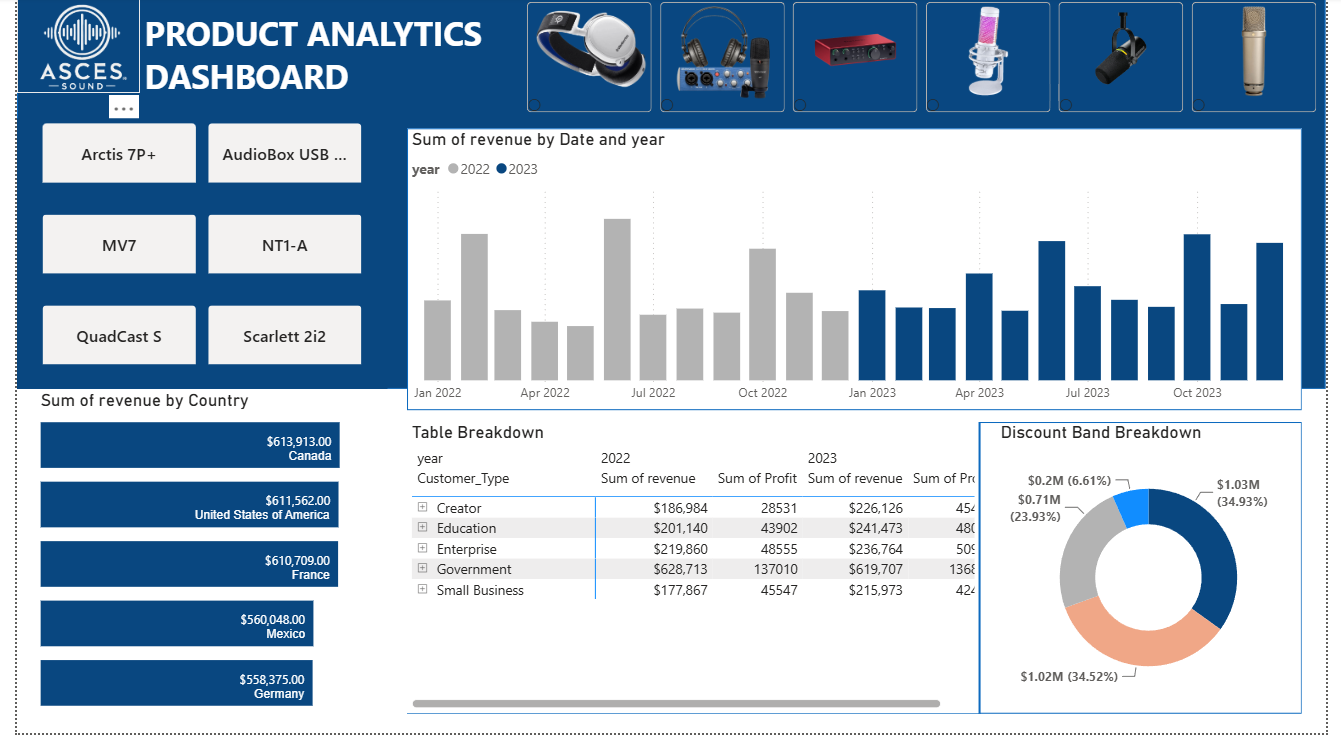

Layout of this report page (visuals, bound fields, positions):
{"tool":"powerbi","page":{"name":"Page 1","canvas":[1280,720],"ordinal":0},"visuals":[{"type":"shape","box":[0,0,1280,383.4],"z":0},{"type":"shape","box":[381.5,129,875.5,275.8],"z":1000},{"type":"shape","box":[381.5,415.8,875.5,285.4],"z":2000},{"type":"image","box":[0,0,119.4,94.7],"z":3000},{"type":"advancedSlicerVisual","fields":{"Values":["Query.Image_url"]},"box":[494,0,786.3,118],"z":4000},{"type":"cardVisual","fields":{"Rows":["Query.Product"]},"box":[0,118.3,362,265.1],"z":5000},{"type":"clusteredBarChart","fields":{"Category":["Query.Country"],"Y":["Sum(Query.revenue)"]},"box":[18.5,383.4,343.5,316.4],"z":6000},{"type":"columnChart","fields":{"Y":["Sum(Query.revenue)"],"Category":["Query.Date"],"Series":["Query.year"]},"box":[382,128.3,875.2,276.5],"z":7000},{"type":"donutChart","title":"Discount Band Breakdown","fields":{"Category":["Query.Discount_Band"],"Y":["Sum(Query.revenue)"]},"box":[957.8,415.8,299.1,285.4],"z":8000},{"type":"pivotTable","title":"Table Breakdown","fields":{"Rows":["Query.Customer_Type","Query.Product"],"Columns":["Query.year"],"Values":["Sum(Query.revenue)","Sum(Query.Profit)"]},"box":[382,416.2,560.2,285.1],"z":9000},{"type":"shape","box":[935.9,415.8,12.3,285.4],"z":10000},{"type":"textbox","box":[119.4,8.2,425.4,109.8],"z":11000}]}

Visuals, with their boxes in screenshot pixels (x1, y1, x2, y2), scaled from the page's 1280x720 canvas onto the 1341x738 screenshot:
shape: (0, 0, 1340, 393)
shape: (400, 132, 1317, 415)
shape: (400, 426, 1317, 719)
image: (0, 0, 125, 97)
advancedSlicerVisual - Query.Image_url: (518, 0, 1340, 121)
cardVisual - Query.Product: (0, 121, 379, 393)
clusteredBarChart - Query.Country x Sum(Query.revenue): (19, 393, 379, 717)
columnChart - Sum(Query.revenue) x Query.Date: (400, 132, 1317, 415)
"Discount Band Breakdown" donutChart: (1003, 426, 1317, 719)
"Table Breakdown" pivotTable: (400, 427, 987, 719)
shape: (981, 426, 993, 719)
textbox: (125, 8, 571, 121)
